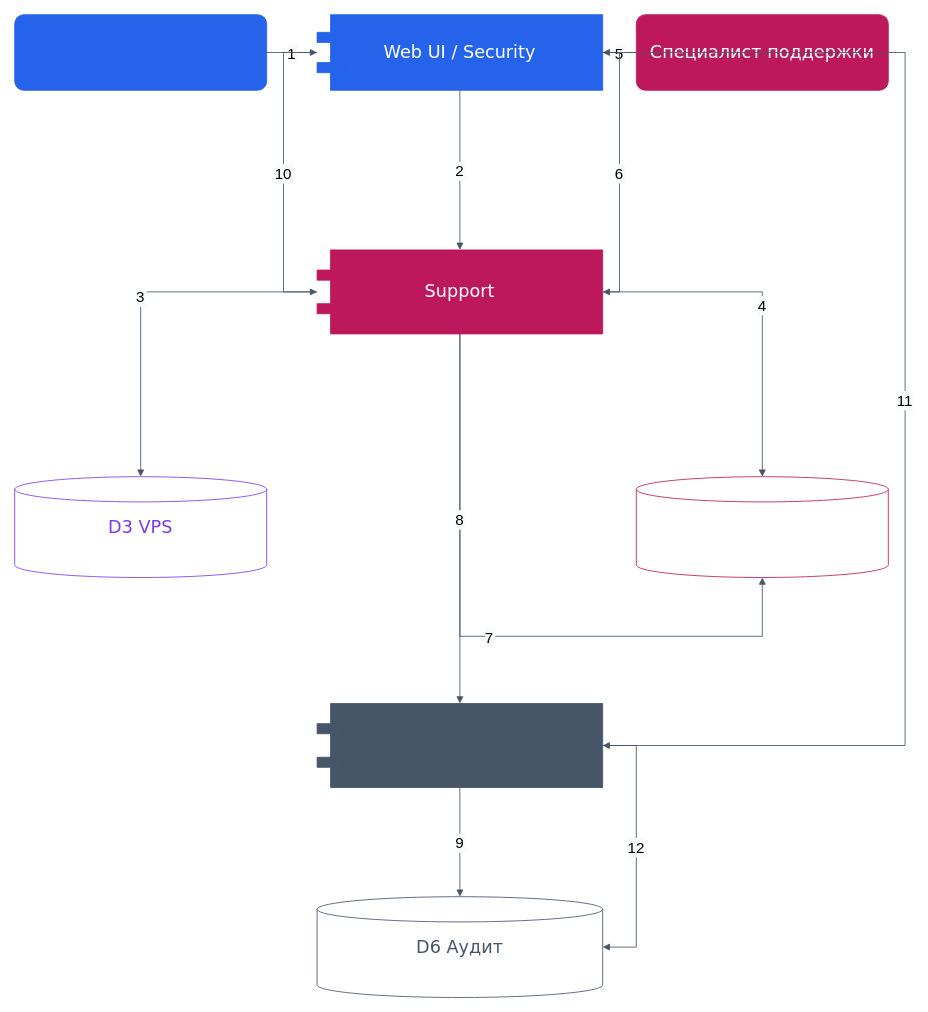
Image size: 928x1012. Some labels were removed from this diagram. Here are the shapes that lost their labels. From the top down, the centre of each, then its label:
At (x=140, y=52): "Клиент".
At (x=761, y=527): "D5 Тикеты".
At (x=459, y=745): "Audit / Unit of Work".
